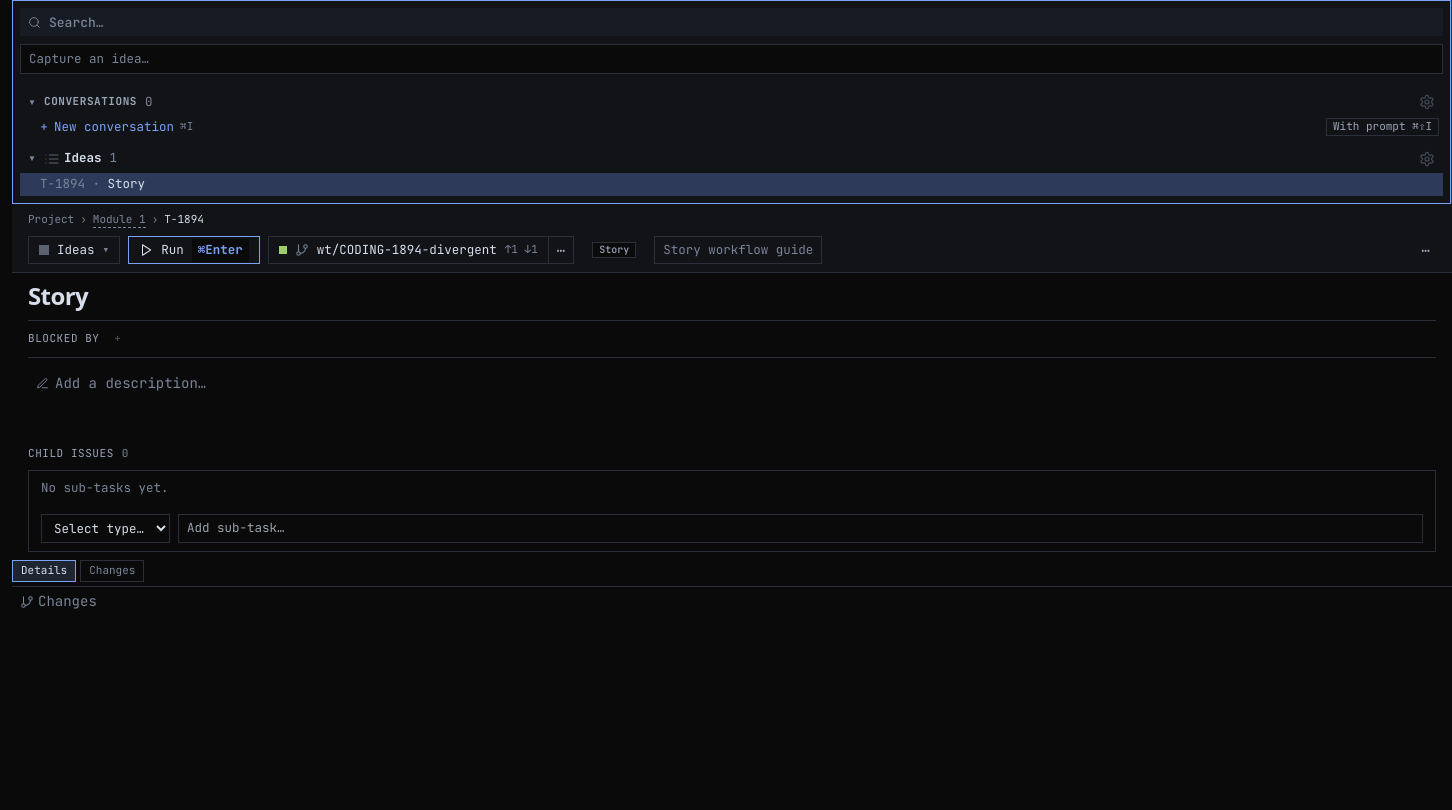
Test: overhaul acceptance - divergent local merge recovery › [overhaul-316] reports a completed divergent merge and converges affected Changes reads
Click the tab "Changes": (112, 571) x1=80 y1=560 x2=144 y2=582
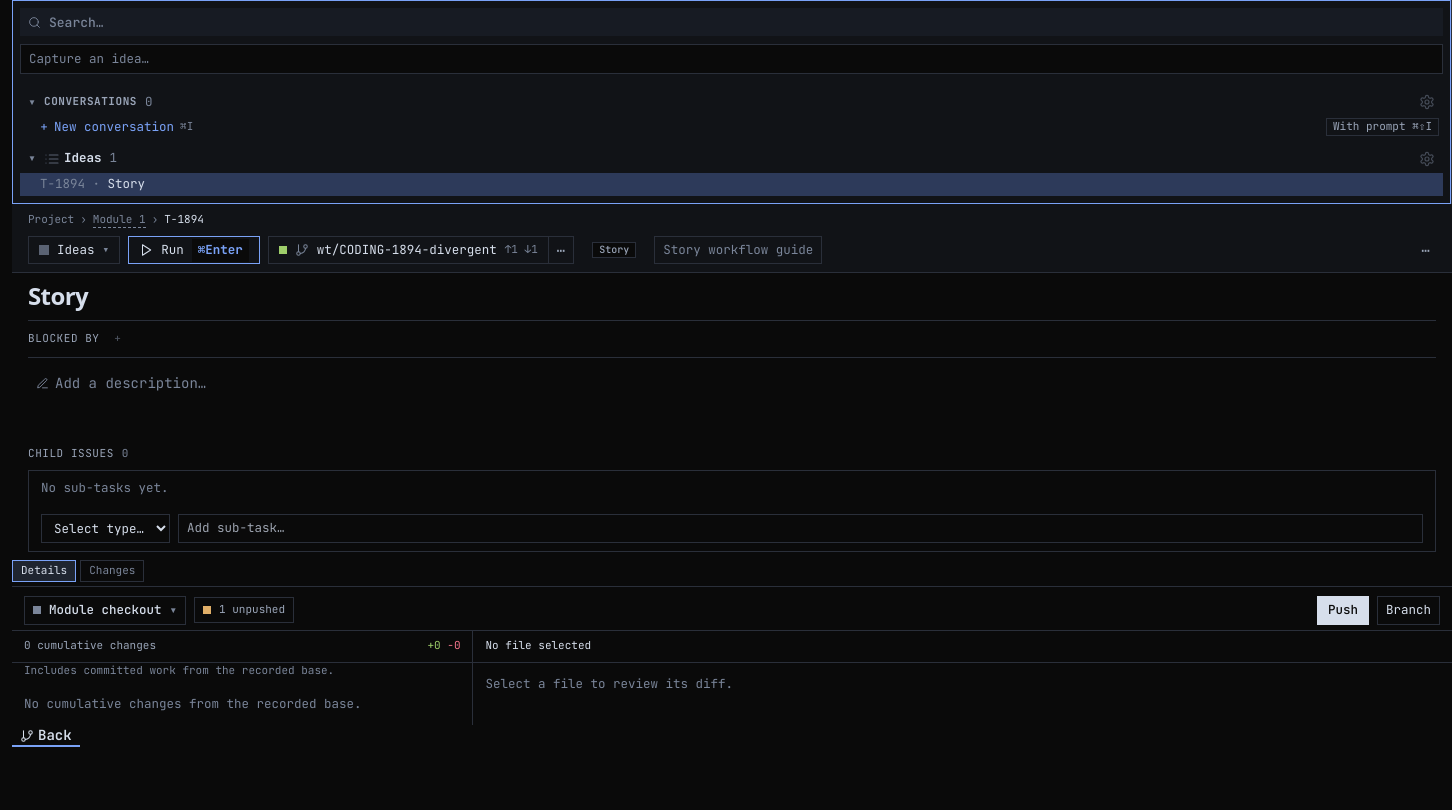
Click the button "Branch": (1408, 610) x1=1377 y1=596 x2=1440 y2=625
(page scrolled)
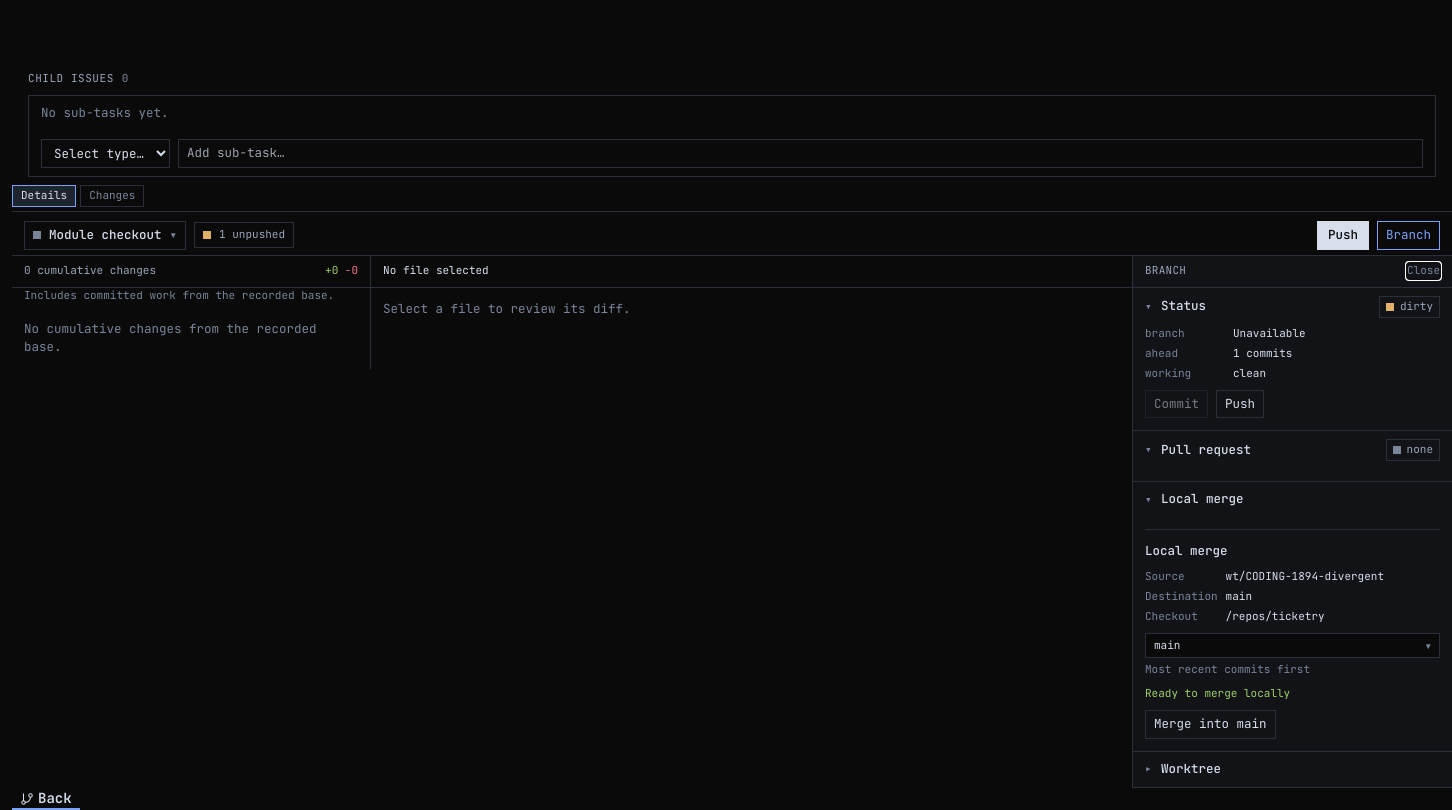
Click the button "Merge into main": (1210, 725) x1=1145 y1=710 x2=1276 y2=739
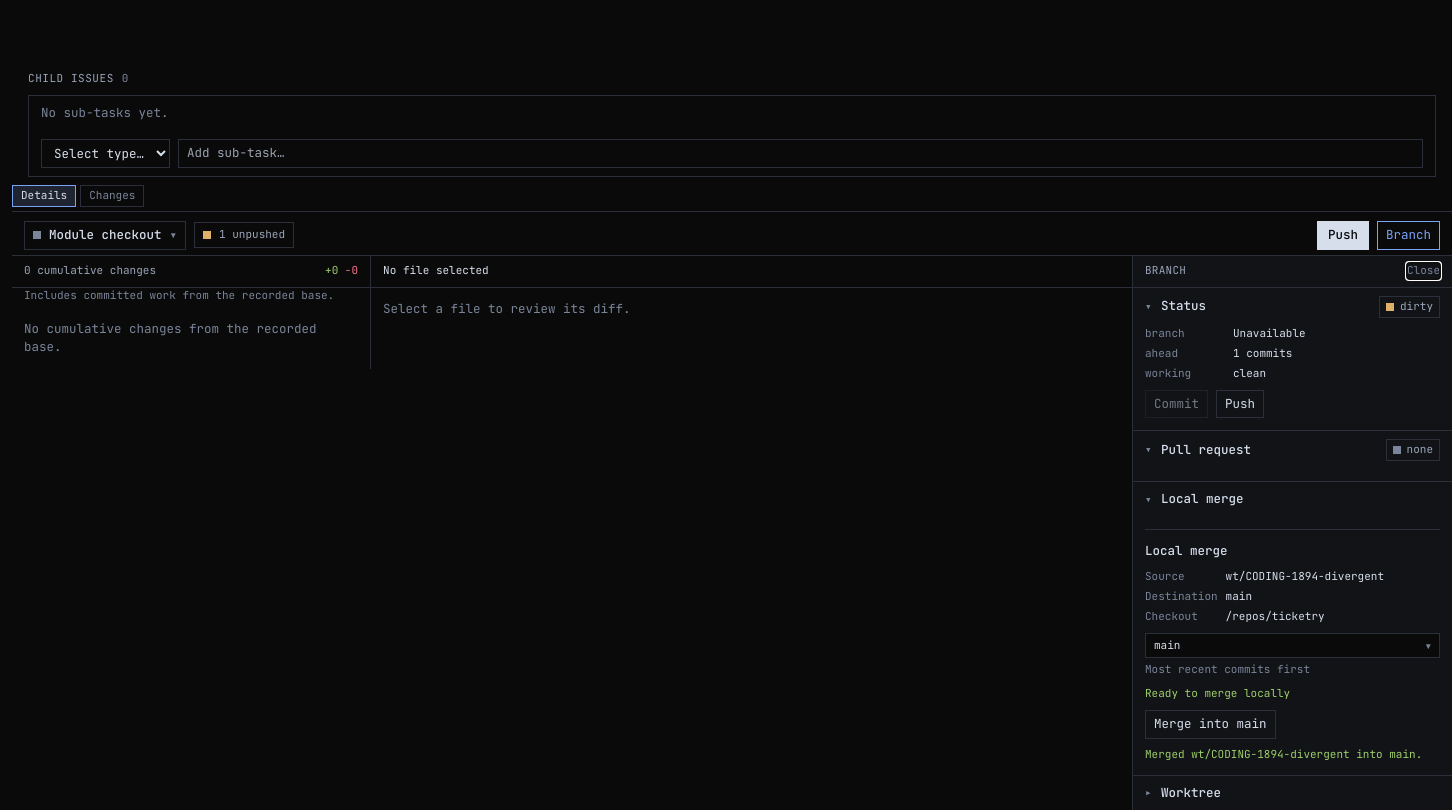
Check: the text "Merged wt/CODING-1894-divergent into main." is shown, box x1=1145 y1=747 x2=1440 y2=763
